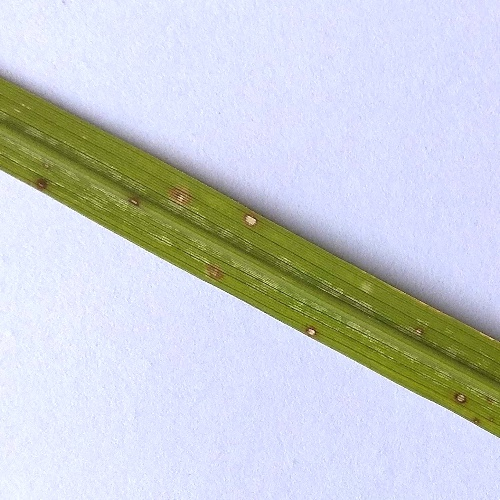Busuk Leher: (165, 179, 194, 212), (200, 260, 231, 286), (30, 166, 55, 196), (300, 317, 325, 342), (451, 385, 475, 409), (120, 191, 139, 212), (242, 214, 265, 227), (413, 323, 429, 340)
